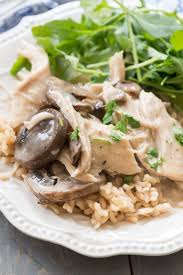Chicken: (54, 95, 171, 171)
